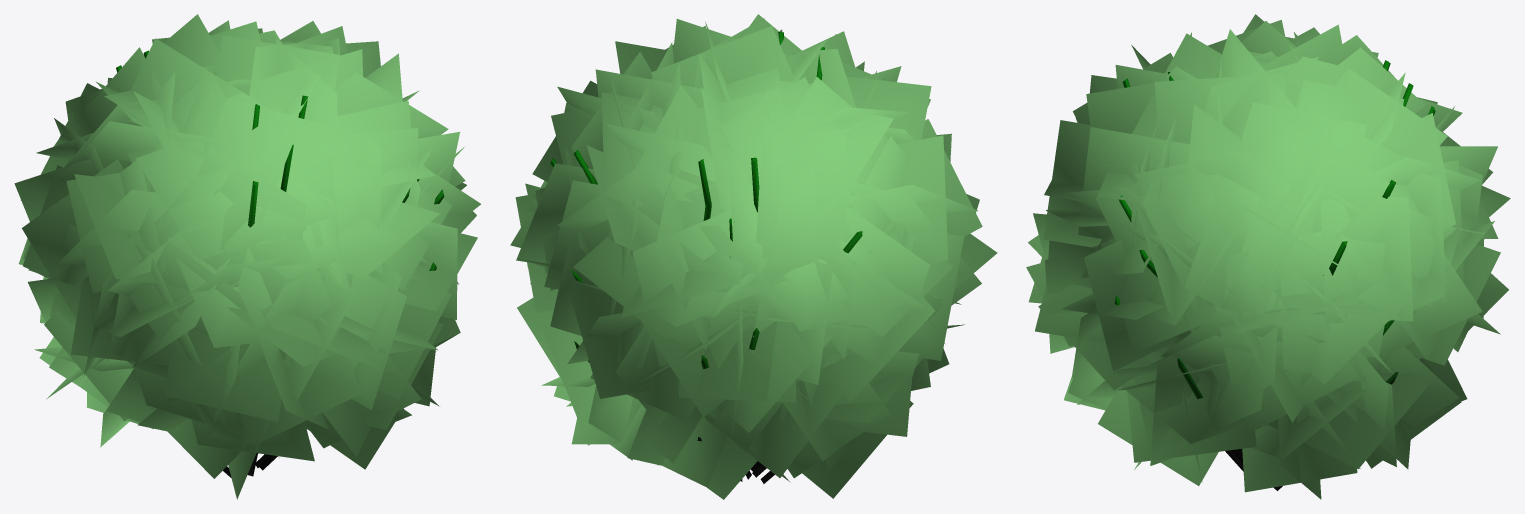
The model's file is hgs_gm06.fbx.
3 renders of one model, left to right at view 1: azimuth 30°, elevation 25°; view 2: azimuth 150°, elevation 25°; view 3: azimuth 270°, elevation 25°, orthographic.
Visible parts, largest first — view 1: yz01, sy01; view 2: yz01, sy01; view 3: yz01, sy01.
Boxes of the visible parts, left/top/right/bottom form: yz01: left=14, top=14, right=480, bottom=499; sy01: left=94, top=50, right=444, bottom=477; yz01: left=510, top=14, right=997, bottom=499; sy01: left=550, top=32, right=883, bottom=483; yz01: left=1026, top=14, right=1510, bottom=499; sy01: left=1114, top=60, right=1435, bottom=490.
Size of the model in its own units: 0.0357 by 0.0367 by 0.0357.
